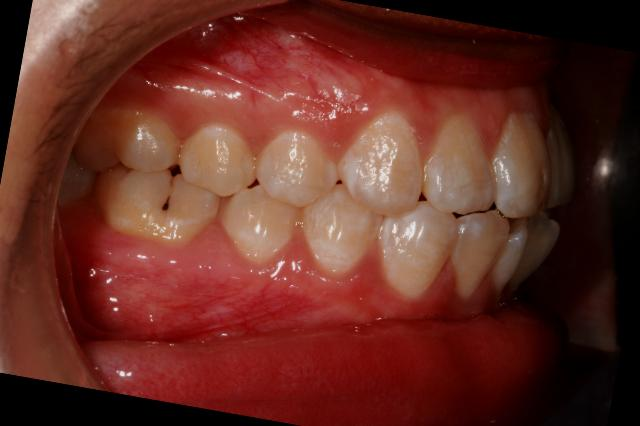canine class I: (288, 88, 483, 310)
molar class III 1/2: (54, 97, 236, 261)
